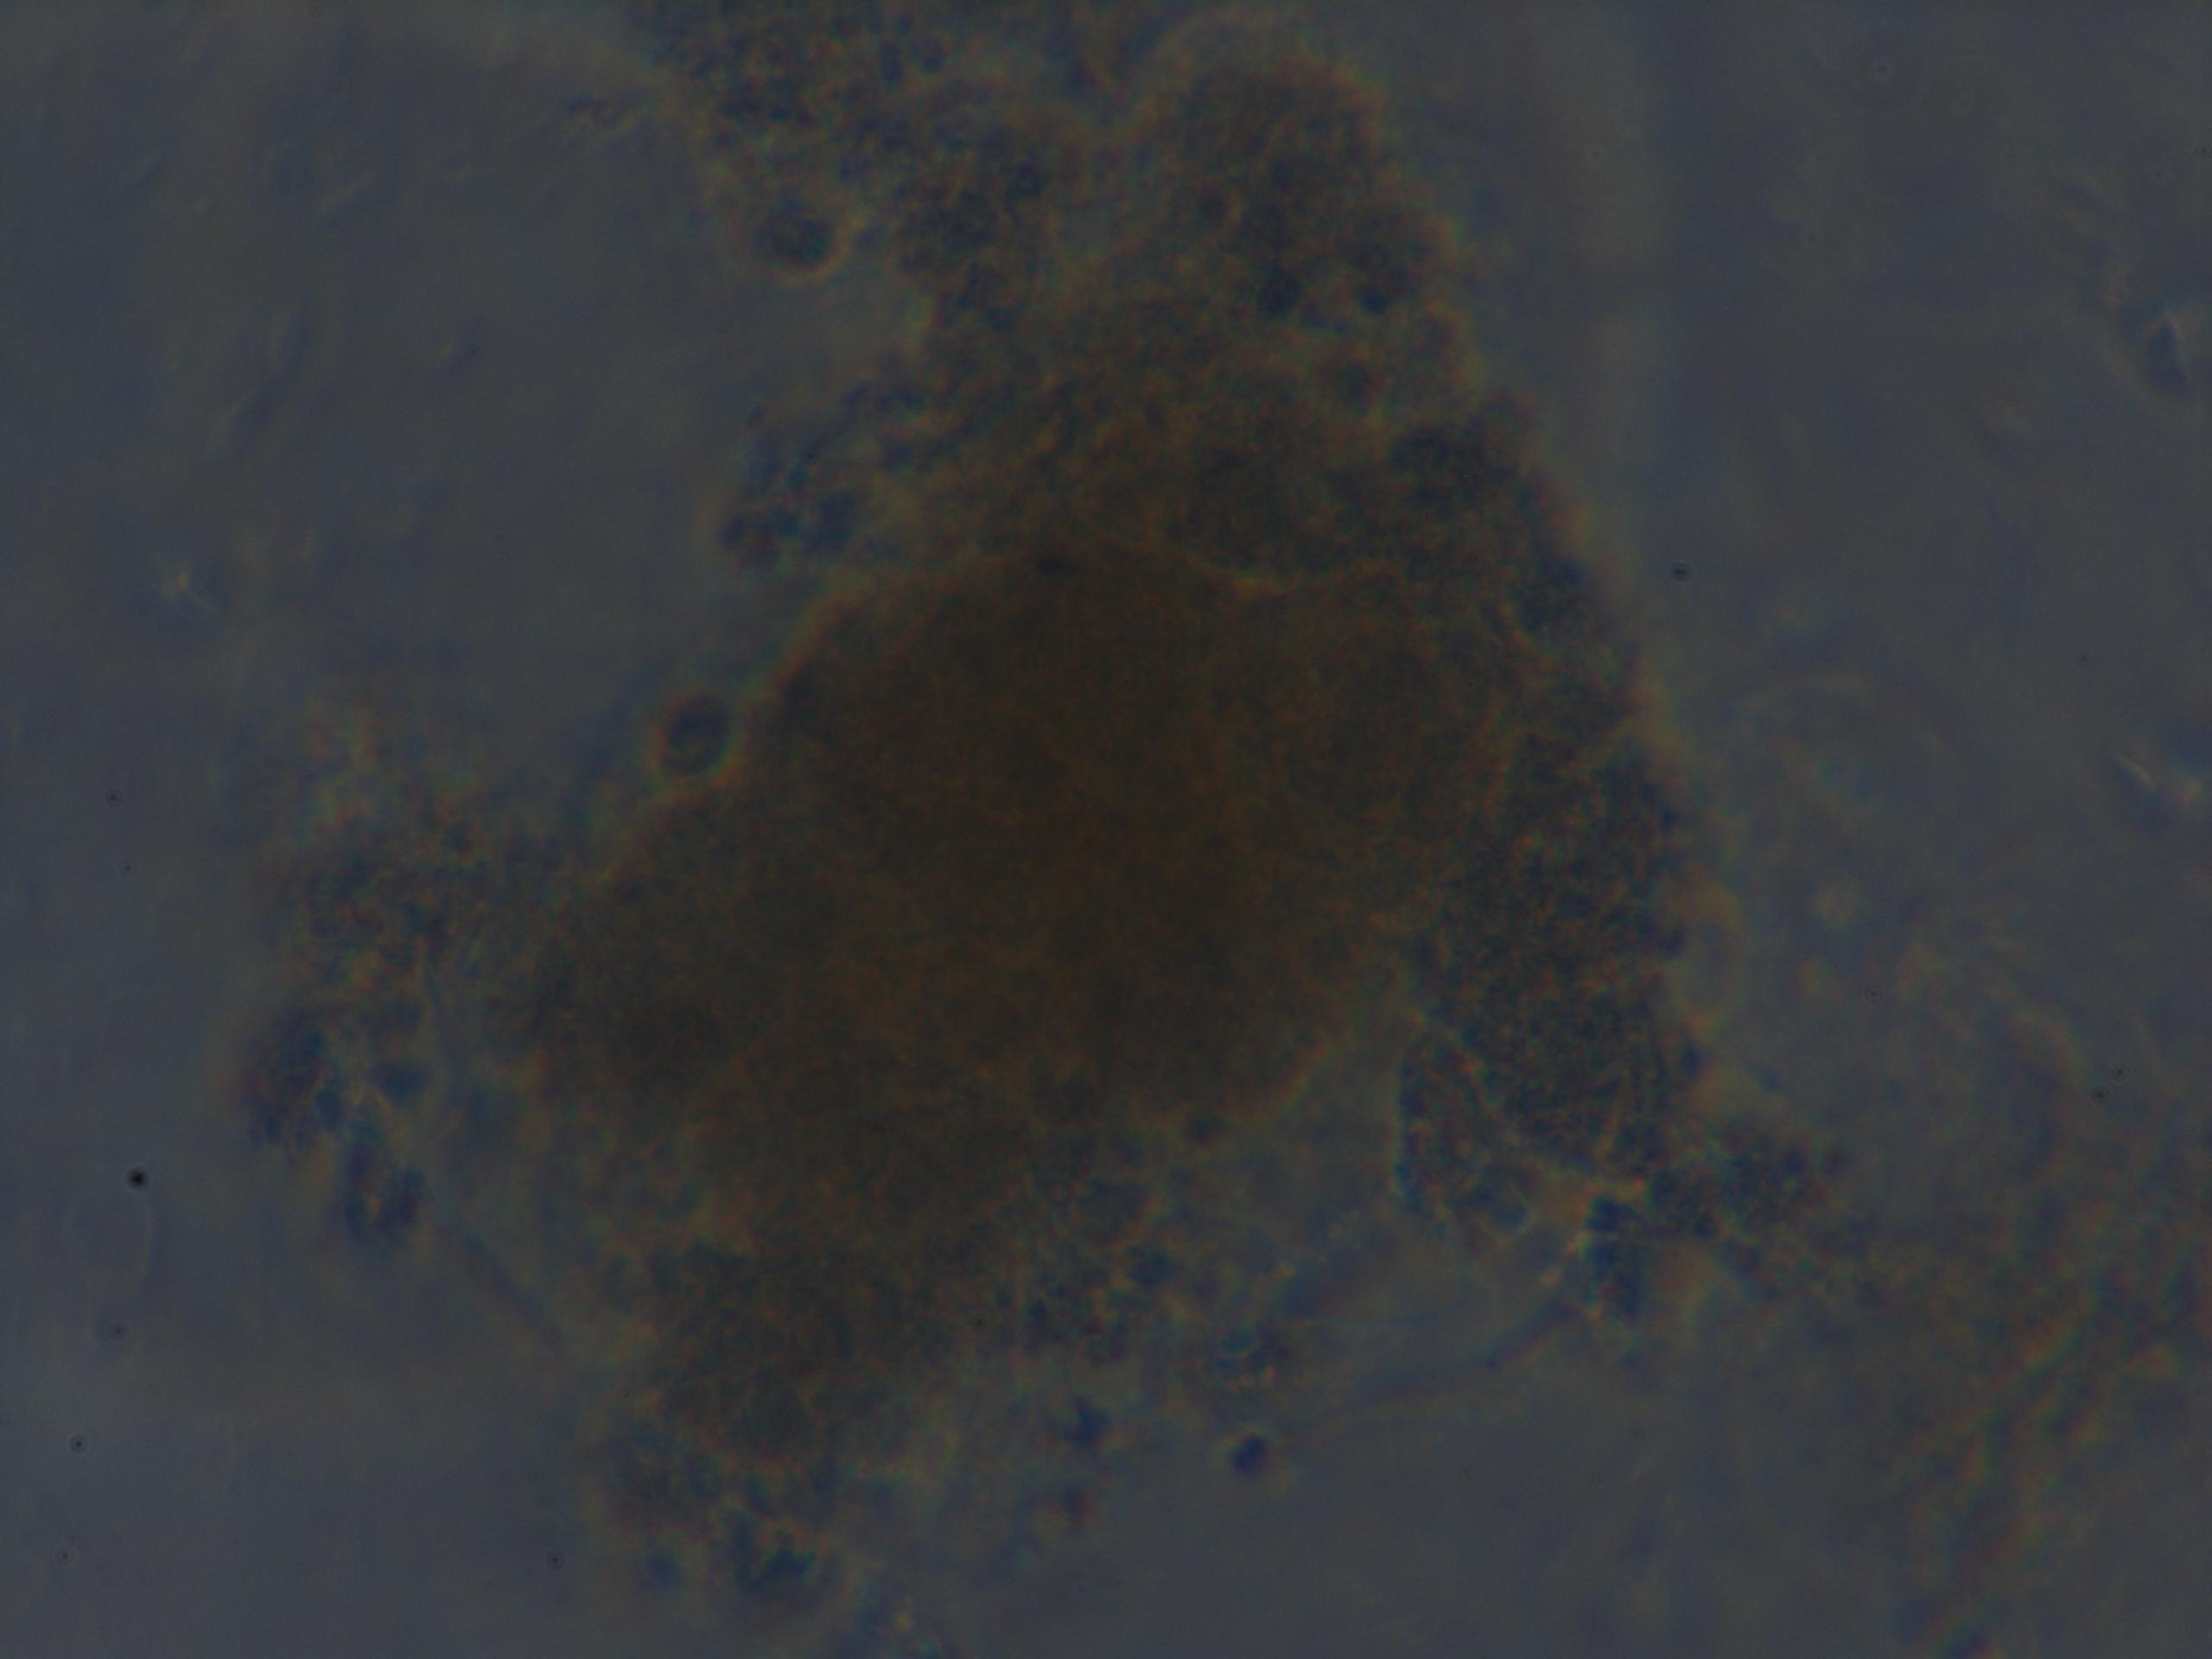spherical_floc: (502, 471, 1543, 1424)
